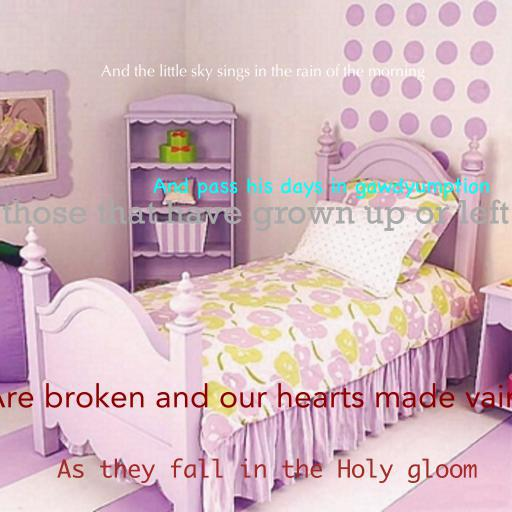Avenir: (0, 383, 512, 408)
Chalkboard: (152, 177, 490, 199)
Monaco: (57, 458, 477, 484)
Optima: (101, 64, 425, 81)
Rockwell: (1, 199, 509, 232)
